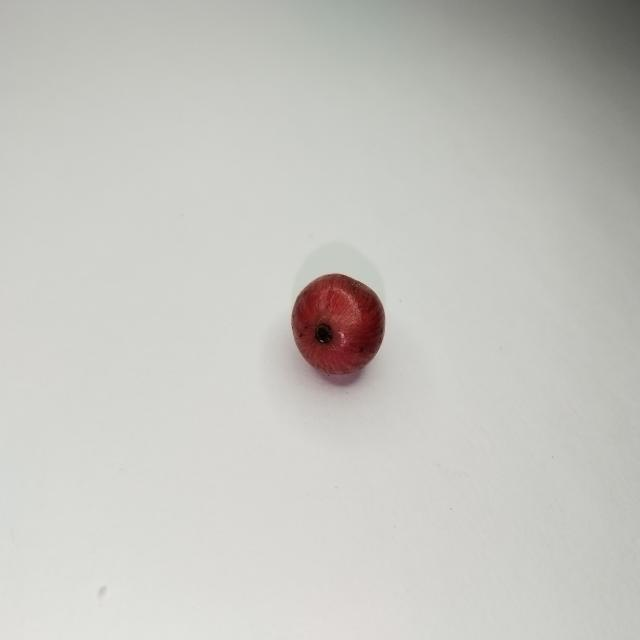Infectado: (291, 276, 385, 375)
